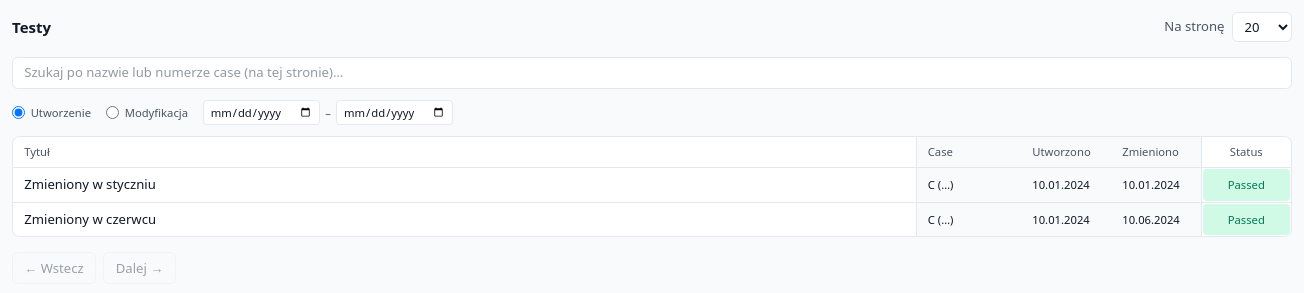
Test case: TestList › radio przełącza filtr dat z "Utworzenie" na "Modyfikacja"
The width and height of the screenshot is (1304, 293).
Click the radio button with test id "filter-date-field-modified" at (112, 112), box [106, 106, 119, 119]
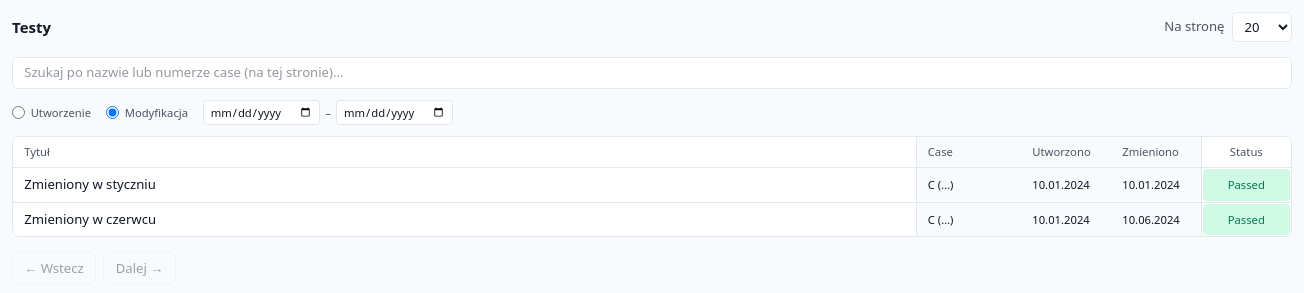
Type "2024-05-01" into the date field with test id "filter-date-from" at (261, 112), box [203, 100, 320, 125]
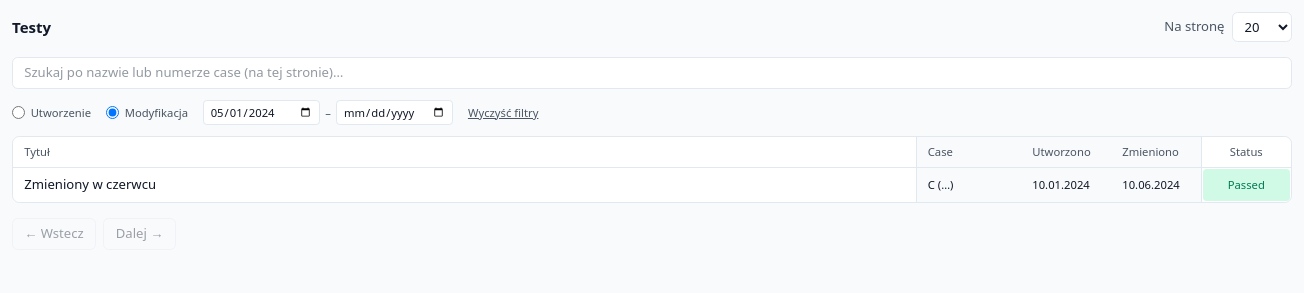
Expected: the row with test id "test-item" shows "Zmieniony w czerwcu", [24, 175, 156, 193]
Result: the number of rows with test id "test-item" is 1 at [13, 167, 1291, 202]
